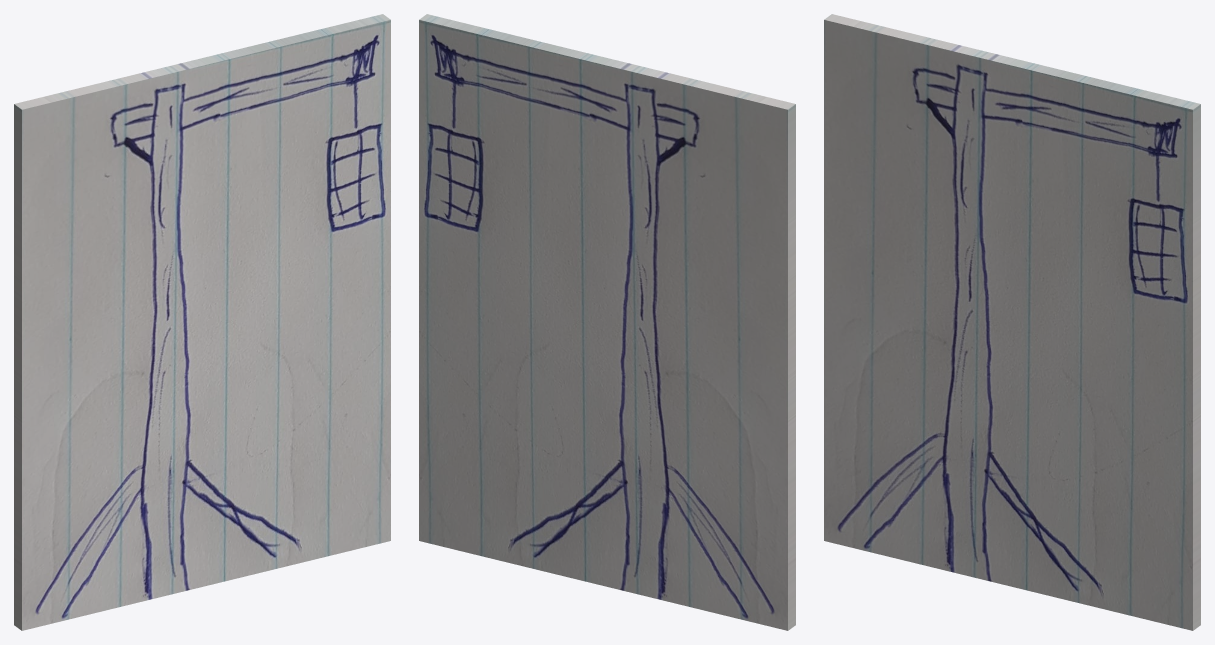
File: LANTAARN.fbx
The picture shows the model from 3 angles, left to right: view 1: azimuth 30°, elevation 25°; view 2: azimuth 150°, elevation 25°; view 3: azimuth 330°, elevation 25°; orthographic projection.
Parts seen in each view (by area): view 1: Plane; view 2: Plane; view 3: Plane.
Boxes of the visible parts, x1=… form: Plane: x1=14, y1=14, x2=390, y2=630; Plane: x1=419, y1=14, x2=795, y2=630; Plane: x1=824, y1=14, x2=1200, y2=630.
Size of the model in its own units: 1167 by 1576 by 43.31.
1 material, 1 textured.
